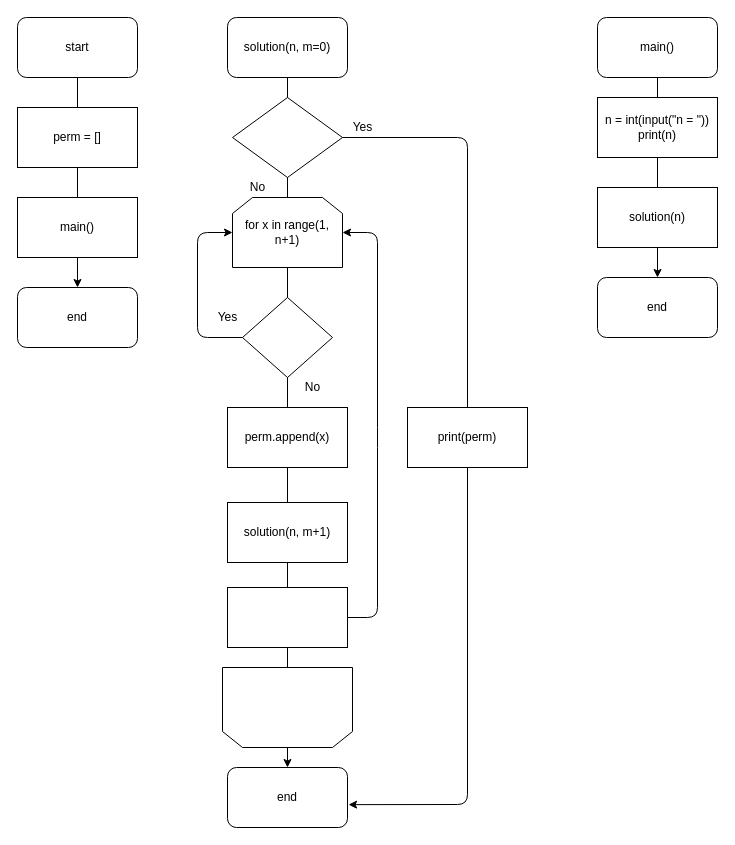
The diagram is 735 pixels wide and 845 high, and some of its shapes have lost their labels. The centre of each missing label's shape, as x and y in pixels:
"endfor" goes at (287,707).
"n == m" goes at (287,137).
"perm.pop()" goes at (287,617).
"x in perm" goes at (287,337).
